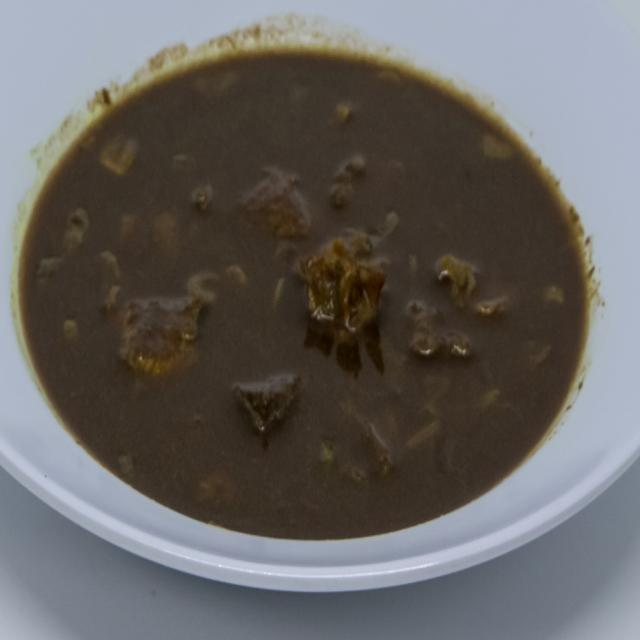Rawon-Surabaya: (15, 37, 589, 547)
